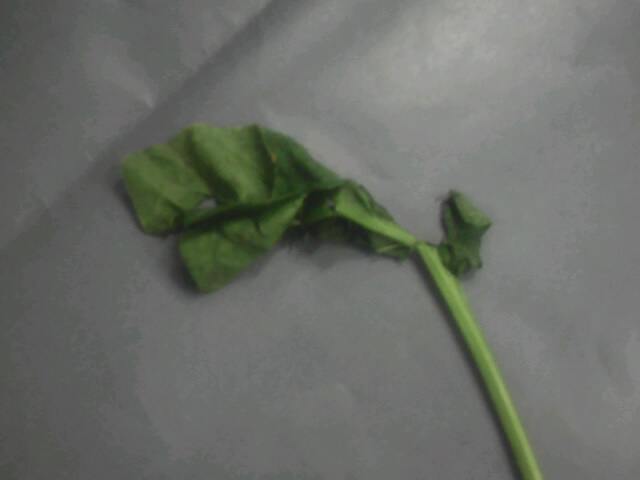yellow: (107, 99, 511, 353)
